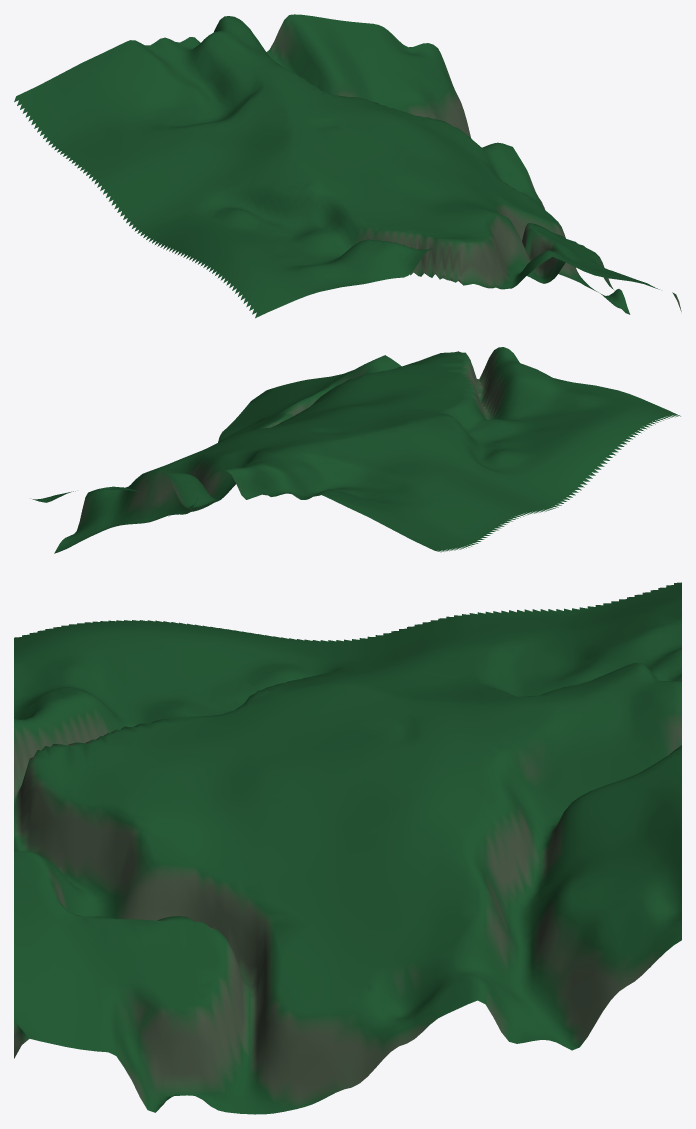
File: payo_land_x1_y0_lod1.glb
3 renders of one model, top to bottom at view 1: azimuth 30°, elevation 25°; view 2: azimuth 150°, elevation 25°; view 3: azimuth 270°, elevation 25°, orthographic. The views are drawn at different scales.
Parts seen in each view (by area): view 1: payo_land_x1_y0; view 2: payo_land_x1_y0; view 3: payo_land_x1_y0.
Part boxes in pixels (left/top/right/bottom): payo_land_x1_y0: left=14, top=14, right=681, bottom=318; payo_land_x1_y0: left=32, top=347, right=680, bottom=553; payo_land_x1_y0: left=14, top=582, right=681, bottom=1114.
Size of the model in its own units: 258 by 122 by 255.
